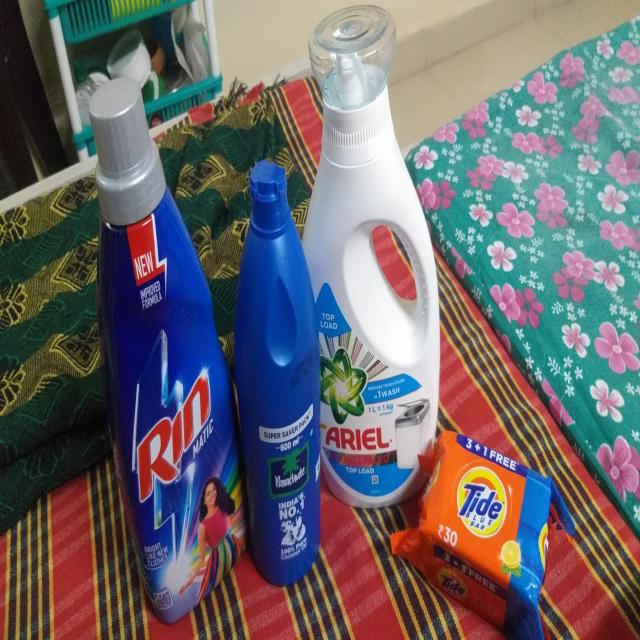parachute_oil: (233, 156, 326, 590)
